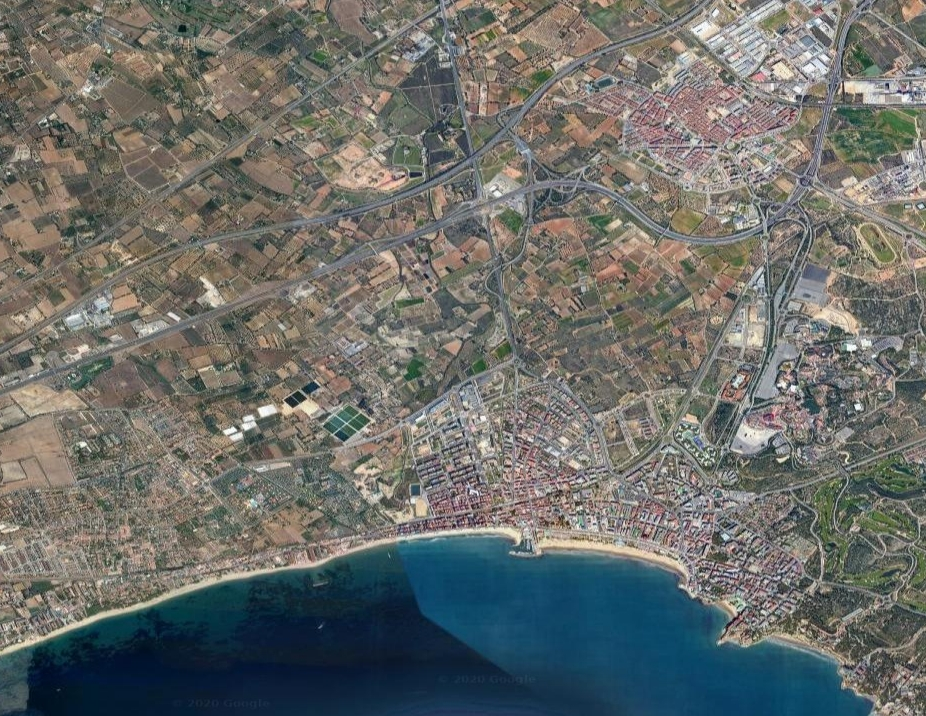industrial: (710, 6, 797, 72)
motorway: (233, 209, 442, 320), (5, 313, 237, 408), (651, 151, 823, 258), (437, 171, 659, 235), (52, 223, 232, 300), (458, 66, 563, 174), (554, 1, 700, 74), (692, 254, 769, 388), (821, 161, 925, 251), (475, 246, 537, 376), (801, 43, 862, 152), (428, 1, 475, 127), (820, 1, 881, 43)
